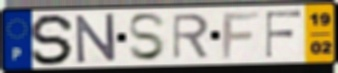F: (220, 10, 262, 61), (263, 9, 303, 60)
N: (74, 12, 118, 66)
R: (171, 12, 211, 61)
S: (28, 12, 78, 67), (126, 12, 168, 63)
